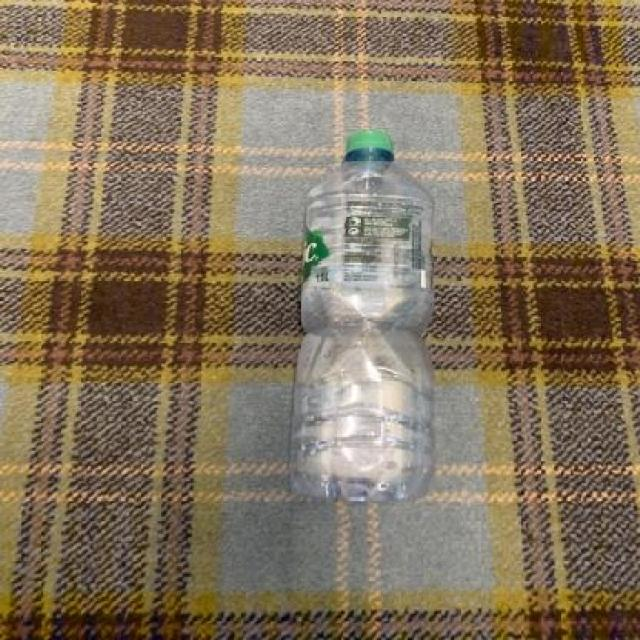trash: (289, 130, 434, 508)
